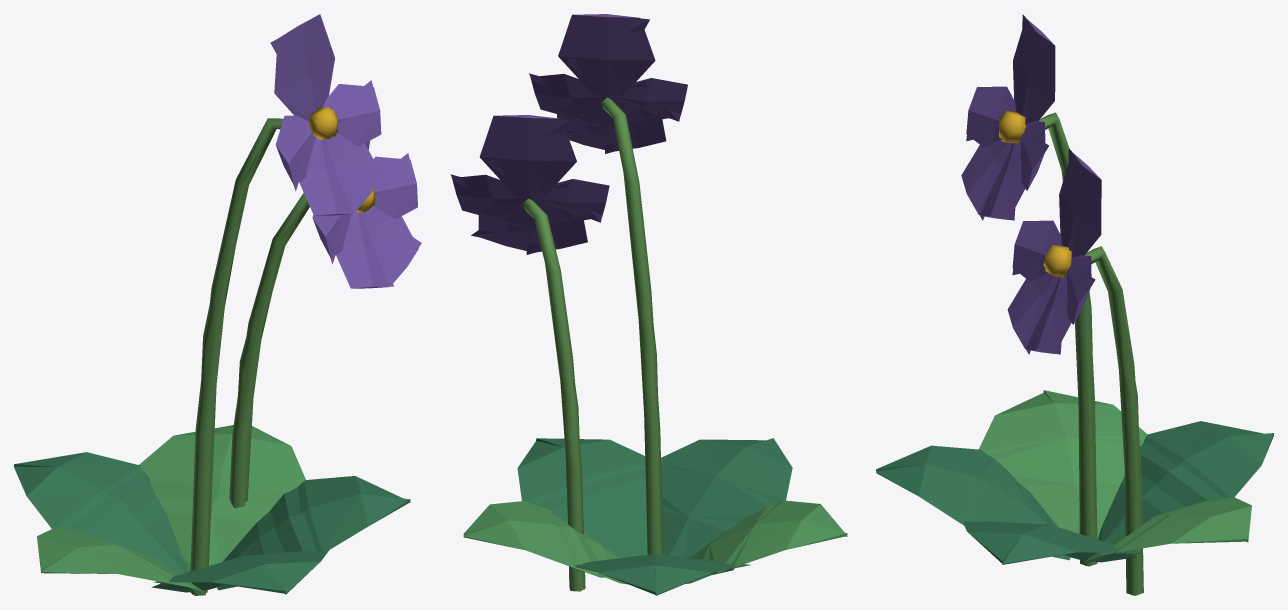
The model's file is violet_a.glb.
3 renders of one model, left to right at view 1: azimuth 30°, elevation 25°; view 2: azimuth 150°, elevation 25°; view 3: azimuth 270°, elevation 25°, orthographic. The views are drawn at different scales.
Parts seen in each view (by area): view 1: leaf_nl, petal_violet_nl, body__far, stem, center_yellow_nl; view 2: petal_violet_nl, leaf_nl, body__far, stem; view 3: leaf_nl, petal_violet_nl, body__far, stem, center_yellow_nl.
Part boxes in pixels (left/top/right/bottom): leaf_nl: left=14, top=426, right=410, bottom=594; petal_violet_nl: left=274, top=14, right=418, bottom=288; body__far: left=14, top=39, right=421, bottom=594; stem: left=190, top=118, right=309, bottom=595; center_yellow_nl: left=309, top=107, right=374, bottom=212; petal_violet_nl: left=452, top=14, right=687, bottom=252; leaf_nl: left=463, top=438, right=847, bottom=595; body__far: left=450, top=18, right=844, bottom=594; stem: left=523, top=97, right=663, bottom=591; leaf_nl: left=876, top=390, right=1273, bottom=564; petal_violet_nl: left=961, top=18, right=1101, bottom=353; body__far: left=876, top=14, right=1263, bottom=595; stem: left=1039, top=112, right=1143, bottom=595; center_yellow_nl: left=999, top=111, right=1071, bottom=277.
Bounding box in the file's own units: 7.9 × 10.86 × 6.89.
